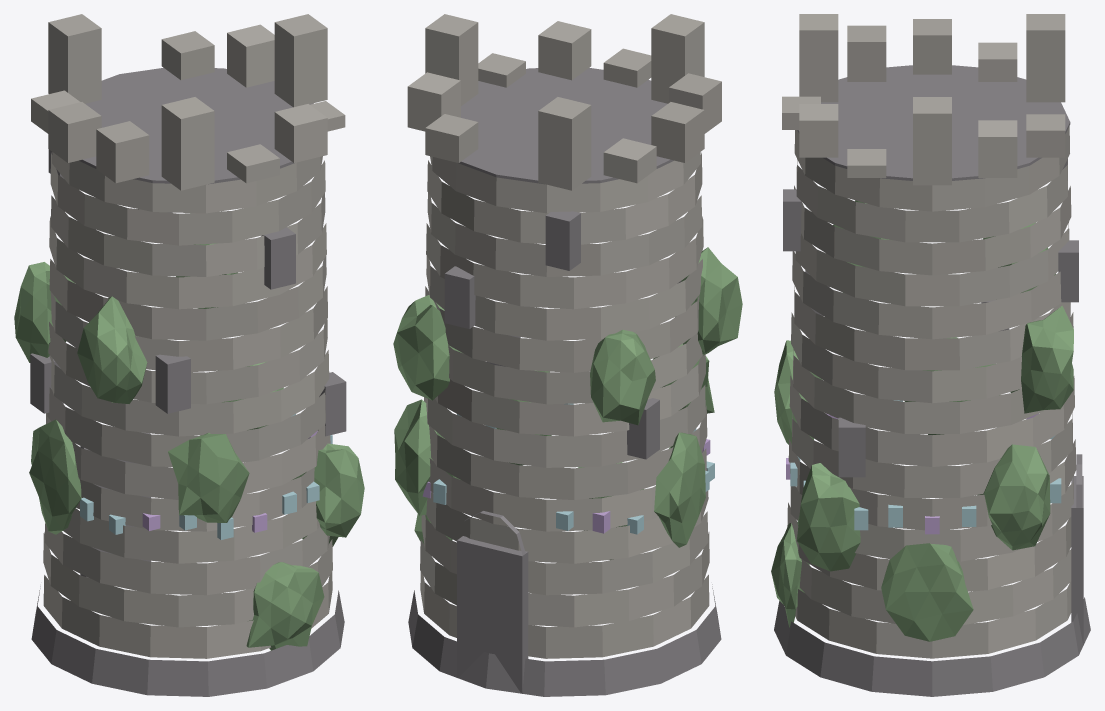
The model's file is tower.glb.
3 renders of one model, left to right at view 1: azimuth 30°, elevation 25°; view 2: azimuth 150°, elevation 25°; view 3: azimuth 270°, elevation 25°, orthographic.
Visible parts, largest first — view 1: tower; view 2: tower; view 3: tower.
Boxes of the visible parts, x1,y1,x2,y2 form: tower: [14, 14, 364, 696]; tower: [393, 14, 742, 696]; tower: [771, 14, 1090, 696].
Size of the model in its own units: 5.2 by 10.5 by 5.25.
